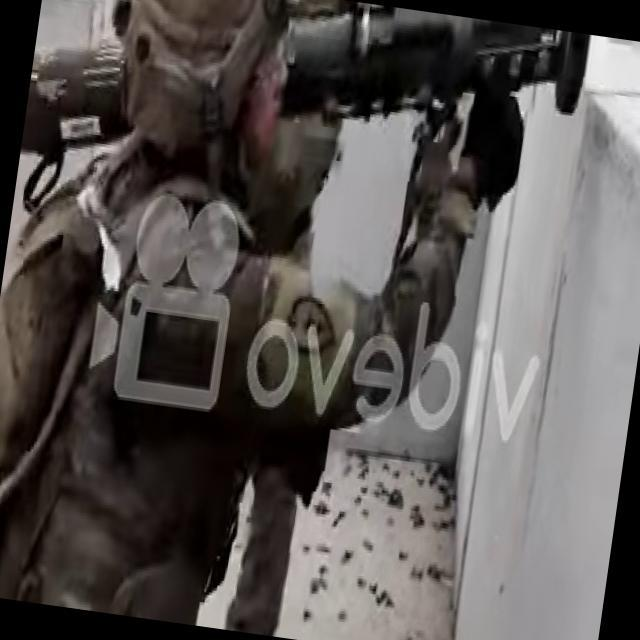rocket: (289, 4, 593, 140)
